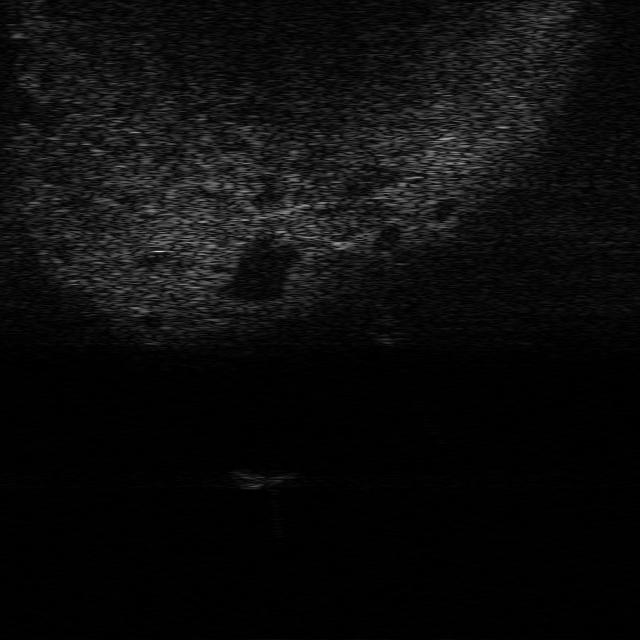ball: (361, 318, 409, 344)
cube: (234, 468, 298, 491)
